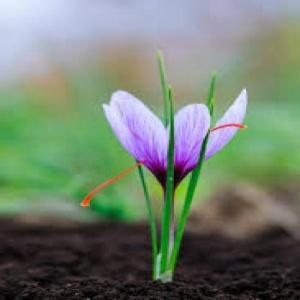Saffron: (105, 86, 249, 202)
